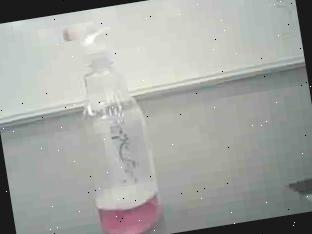hazard: (51, 5, 185, 234)
